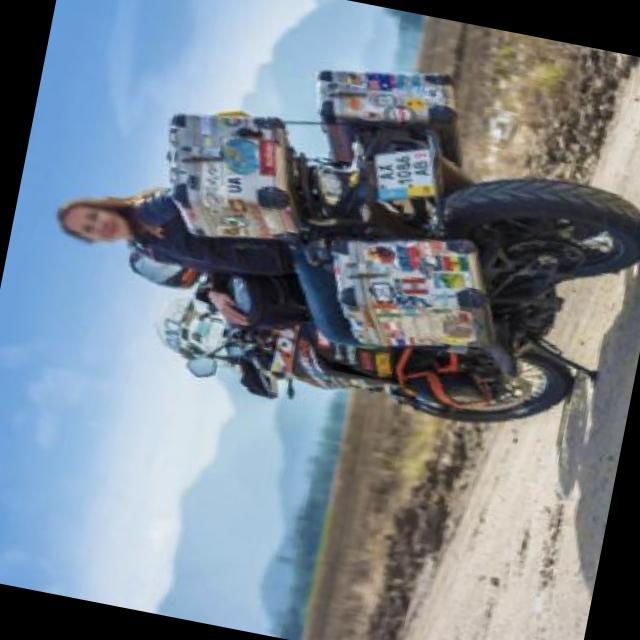With Helmet: (42, 186, 142, 253)
